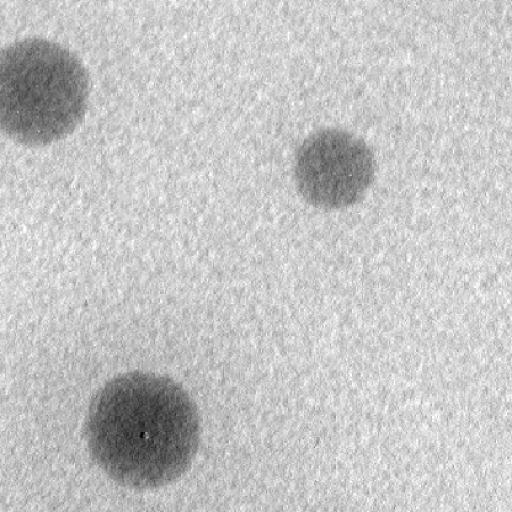Nanoparticles: (82, 368, 204, 488), (1, 39, 90, 141), (292, 126, 376, 210)
